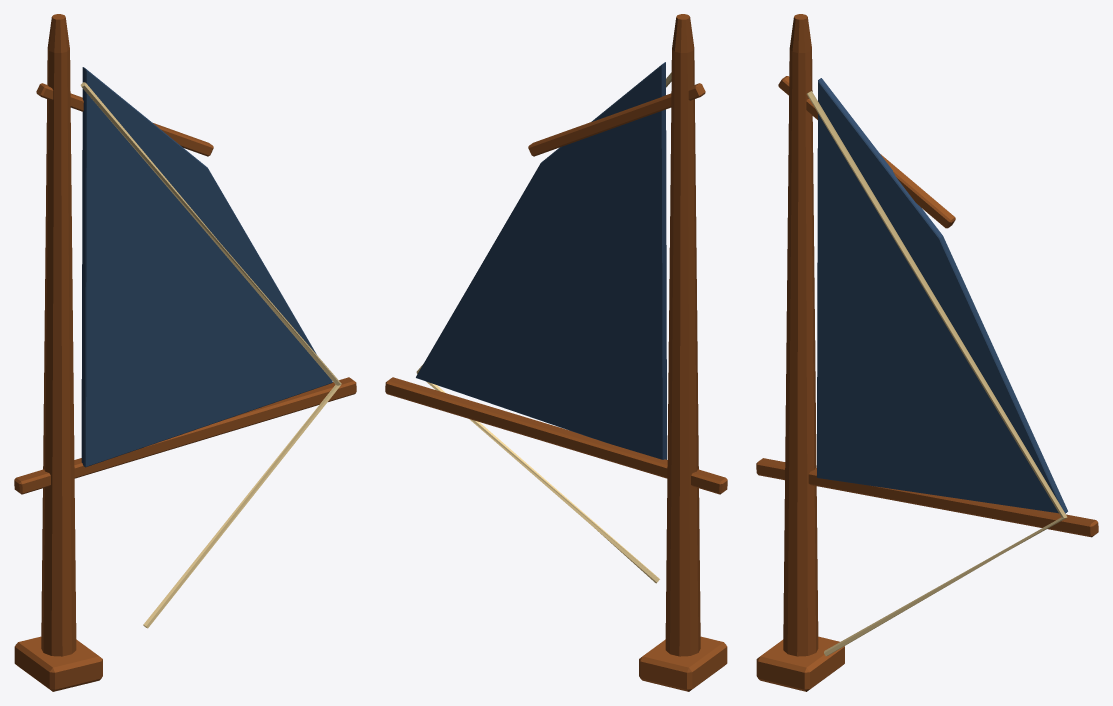
The model's file is EM_BoatMastRig.fbx.
The picture shows the model from 3 angles, left to right: view 1: azimuth 30°, elevation 25°; view 2: azimuth 150°, elevation 25°; view 3: azimuth 330°, elevation 25°; orthographic projection.
Visible parts, largest first — view 1: EM_BoatMastRig; view 2: EM_BoatMastRig; view 3: EM_BoatMastRig.
Part boxes in pixels (x1,y1,x2,y2): EM_BoatMastRig: (14,14,356,691); EM_BoatMastRig: (385,14,727,691); EM_BoatMastRig: (756,14,1098,691).
Bounding box in the file's own units: 1.45 × 2.7 × 0.3853.
